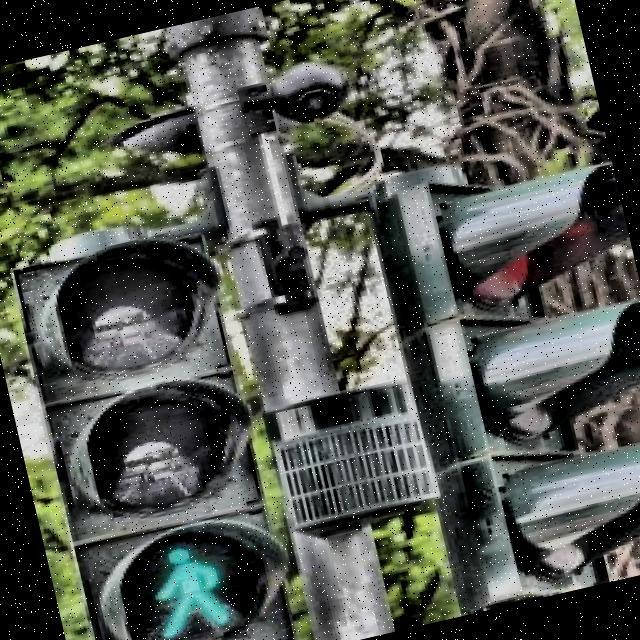green_light: (139, 535, 234, 640)
